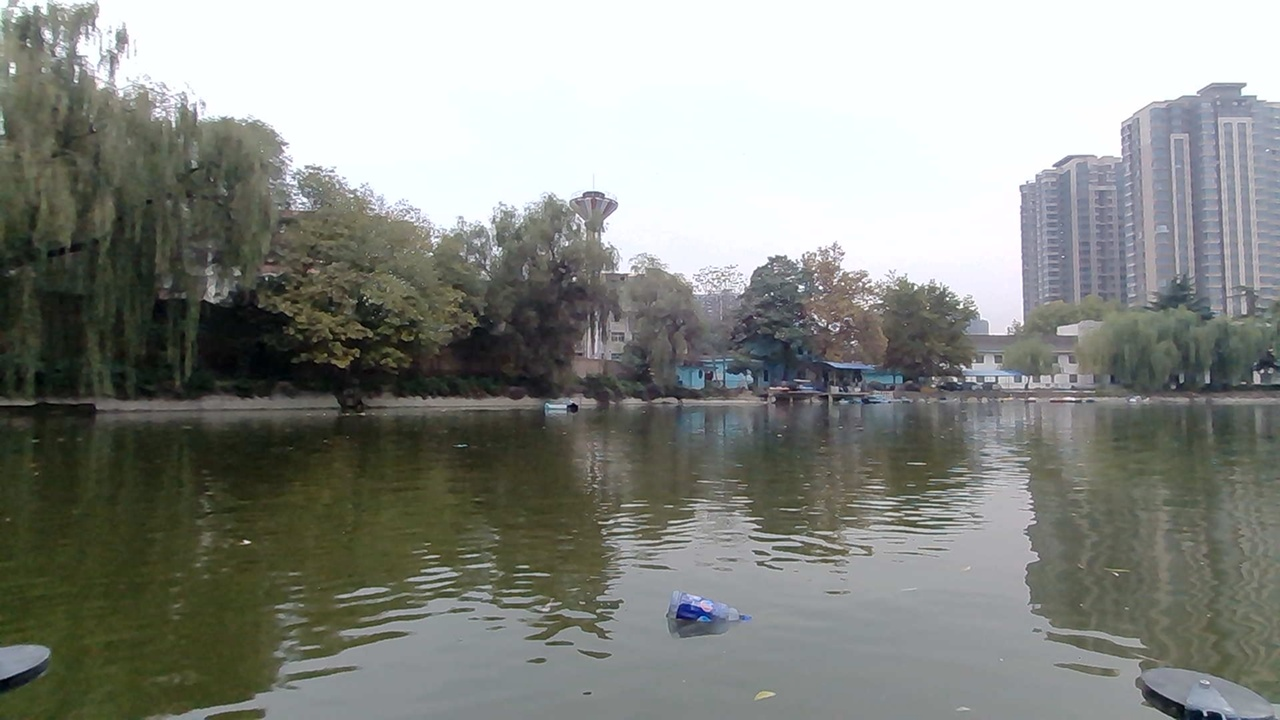bottle: (678, 602, 723, 636)
